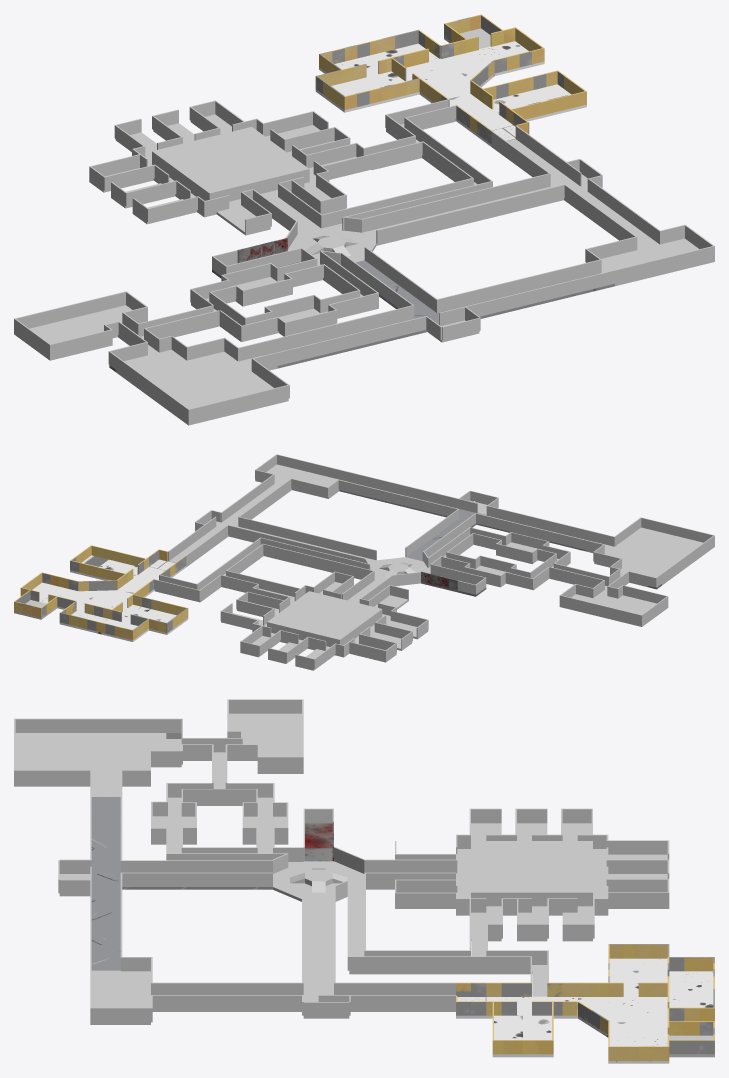
File: Revised map blockoutV6.fbx
The picture shows the model from 3 angles, top to bottom: view 1: azimuth 30°, elevation 25°; view 2: azimuth 150°, elevation 25°; view 3: azimuth 270°, elevation 25°; orthographic projection. The views are drawn at different scales.
Parts seen in each view (by area): view 1: Living quarters walls, Office Walls, Pathway Down Walls, Office Floor, Walls.019, Living quarters Room.008, Walls.003, Pathway Right, Pathway Down Walls.001, Pathway Down Walls.002, Pathway Down, Walls (+10 smaller); view 2: Living quarters walls, Office Walls, Pathway Down Walls, Office Floor, Walls.019, Walls.003, Living quarters Room.008, Pathway Down Walls.001, Pathway Right, Pathway Down Walls.002, Pathway Down, Walls (+11 smaller); view 3: Living quarters walls, Office Walls, Office Floor, Walls.003, Pathway Down, Pathway Down Walls, Pathway Right, Living quarters Room.008, Center Platform, Living quarters Room.006, Object, Pathway Up walls (+8 smaller).
Boxes of the visible parts, bbox=[...] form: Living quarters walls: bbox=[89, 100, 364, 232]; Office Walls: bbox=[315, 14, 544, 144]; Pathway Down Walls: bbox=[238, 247, 614, 371]; Office Floor: bbox=[315, 41, 544, 146]; Walls.019: bbox=[362, 173, 564, 243]; Living quarters Room.008: bbox=[152, 139, 259, 201]; Walls.003: bbox=[491, 125, 660, 250]; Pathway Right: bbox=[362, 139, 659, 249]; Pathway Down Walls.001: bbox=[237, 305, 412, 360]; Pathway Down Walls.002: bbox=[437, 259, 600, 312]; Pathway Down: bbox=[263, 260, 614, 368]; Walls: bbox=[586, 225, 714, 283]; Living quarters walls: bbox=[220, 571, 428, 668]; Office Walls: bbox=[14, 549, 188, 639]; Pathway Down Walls: bbox=[349, 472, 615, 561]; Office Floor: bbox=[32, 559, 188, 641]; Walls.019: bbox=[228, 517, 376, 562]; Walls.003: bbox=[168, 474, 291, 565]; Living quarters Room.008: bbox=[303, 600, 382, 646]; Pathway Down Walls.001: bbox=[476, 513, 604, 553]; Pathway Right: bbox=[169, 484, 375, 566]; Pathway Down Walls.002: bbox=[338, 480, 457, 516]; Pathway Down: bbox=[339, 482, 595, 561]; Walls: bbox=[256, 454, 349, 496]; Living quarters walls: bbox=[395, 808, 669, 938]; Office Walls: bbox=[456, 944, 714, 1060]; Office Floor: bbox=[456, 958, 713, 1063]; Walls.003: bbox=[151, 982, 455, 1009]; Pathway Down: bbox=[91, 797, 272, 970]; Pathway Down Walls: bbox=[90, 770, 272, 956]; Pathway Right: bbox=[152, 900, 455, 1011]; Living quarters Room.008: bbox=[471, 841, 592, 866]; Center Platform: bbox=[272, 847, 364, 901]; Living quarters Room.006: bbox=[471, 879, 592, 906]; Object: bbox=[90, 970, 150, 1024]; Pathway Up walls: bbox=[364, 859, 455, 886].
Bounding box in the file's own units: 54002 × 1267 × 46002.
